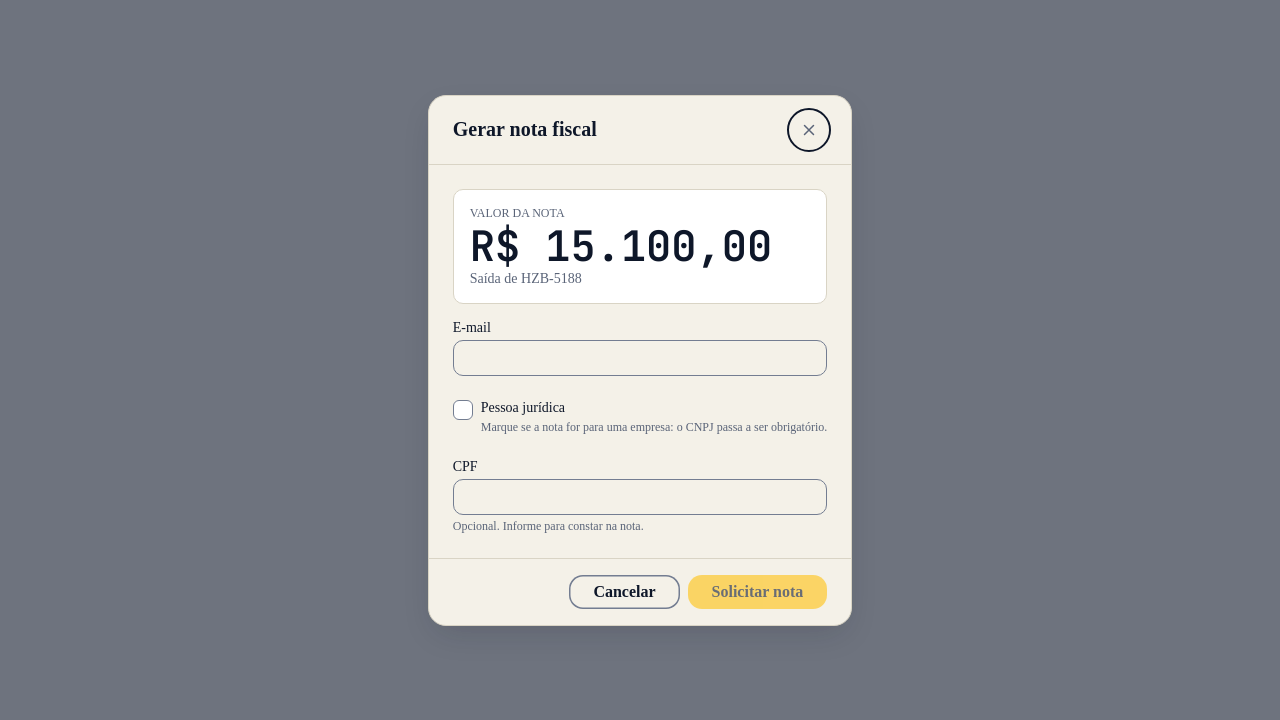
NotaFiscalModal › marcar pessoa jurídica troca o campo para CNPJ obrigatório, com a máscara de CNPJ
Click the checkbox labelled "Pessoa jurídica" at [640, 417], box [453,392,827,442]
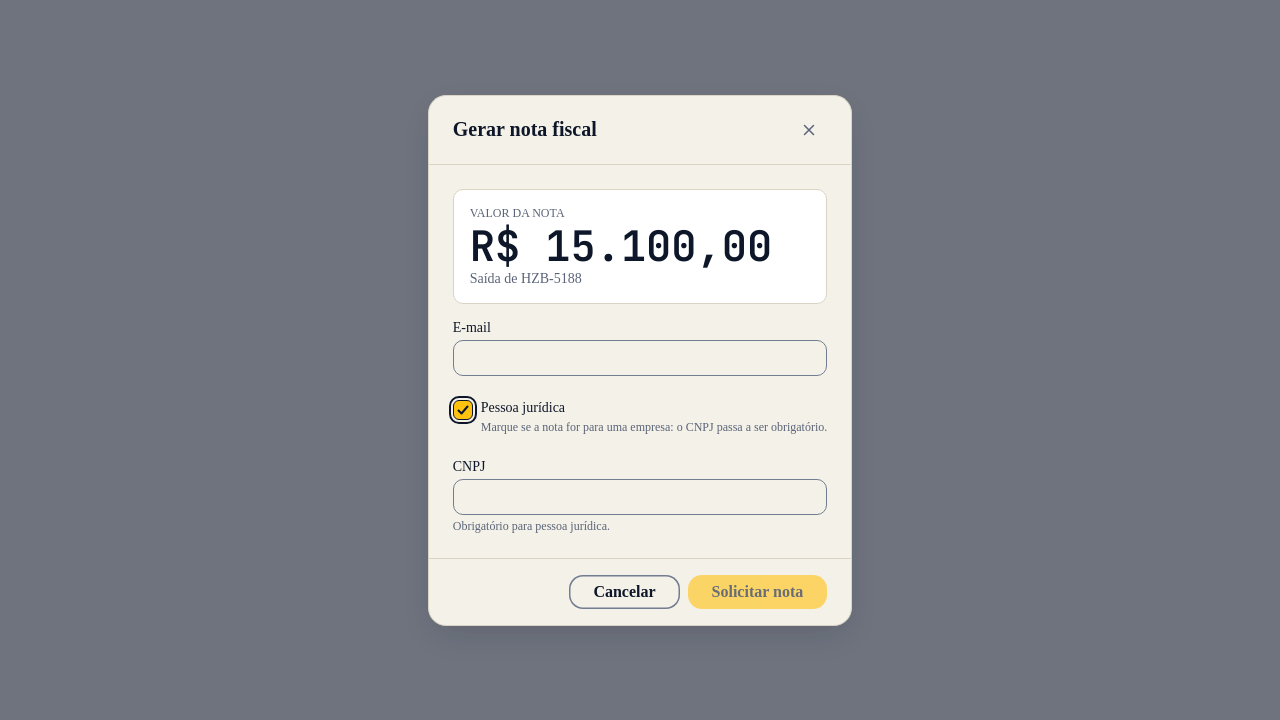
Now the checkbox labelled "Pessoa jurídica" is checked, box [453,392,827,442]
Now the label labelled "CPF" is gone
Now the text "Obrigatório para pessoa jurídica." is shown, box [453,518,610,532]
Type "11222333000181" into the field labelled "CNPJ" at [640, 496], box [453,478,827,514]
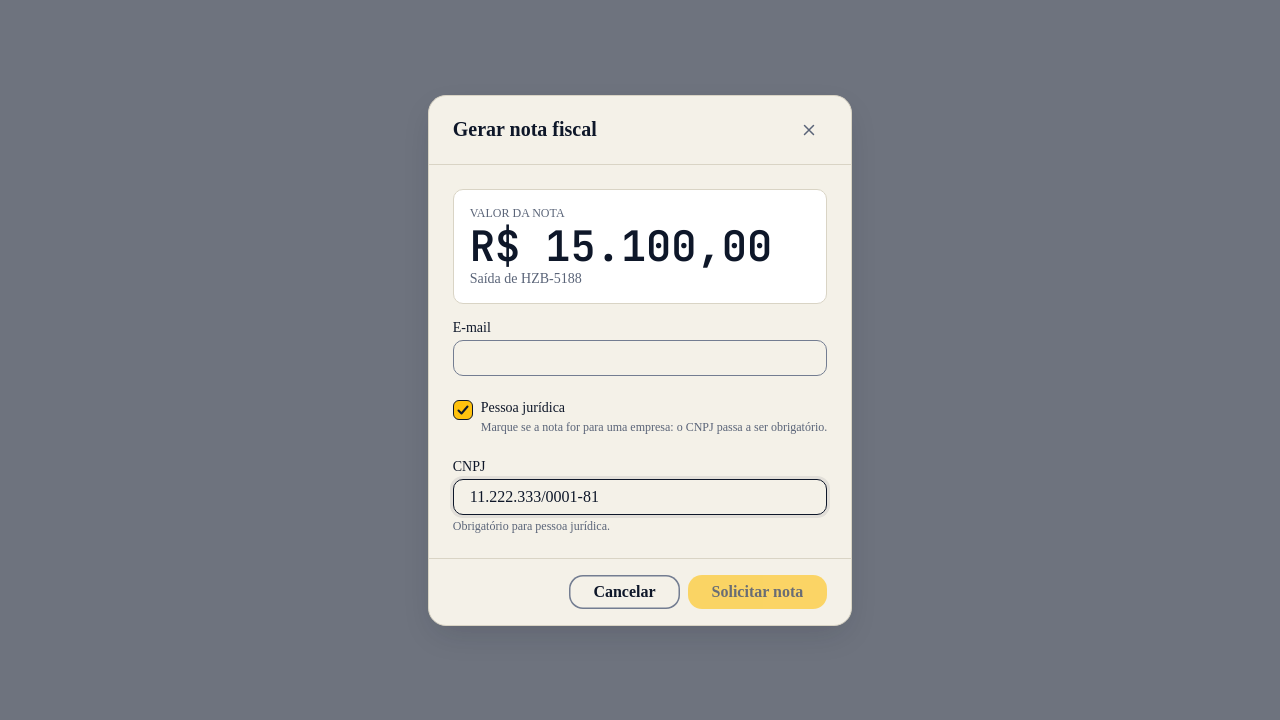
Now the field labelled "CNPJ" holds "11.222.333/0001-81", box [453,478,827,514]
